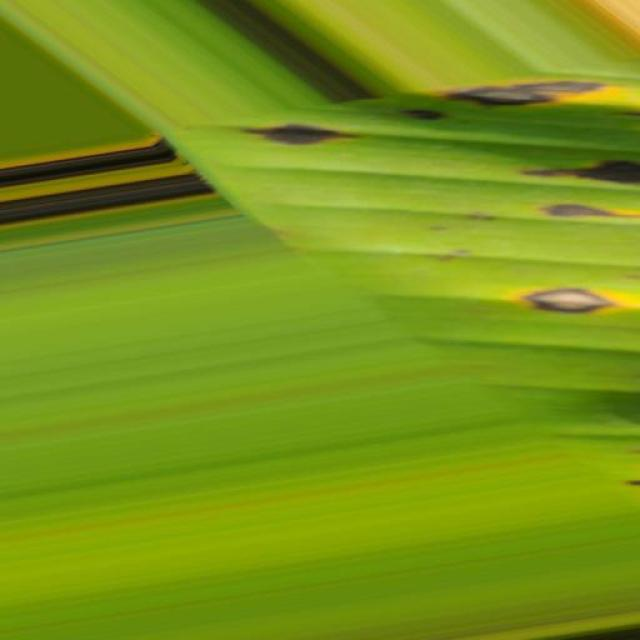Early_rust: (210, 44, 640, 407)
